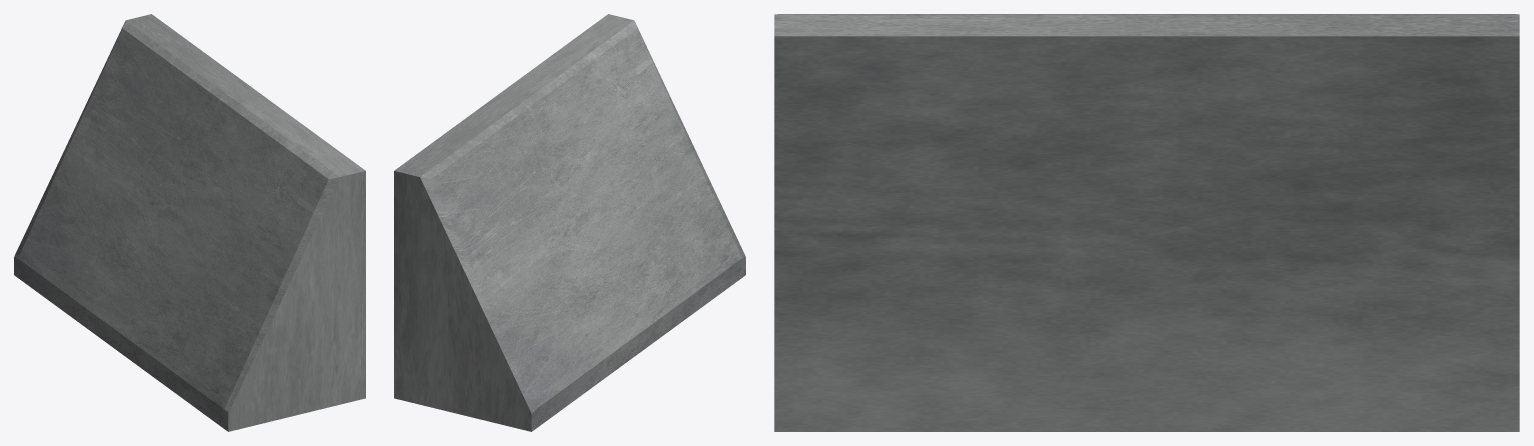
The model's file is StreetWall.fbx.
The picture shows the model from 3 angles, left to right: view 1: azimuth 30°, elevation 25°; view 2: azimuth 150°, elevation 25°; view 3: azimuth 270°, elevation 25°; orthographic projection. The views are drawn at different scales.
Visible parts, largest first — view 1: Wall; view 2: Wall; view 3: Wall.
Part boxes in pixels (x1,y1,x2,y2): Wall: (14,14,365,431); Wall: (394,14,745,431); Wall: (774,14,1519,431).
Size of the model in its own units: 297 by 800 by 469.
